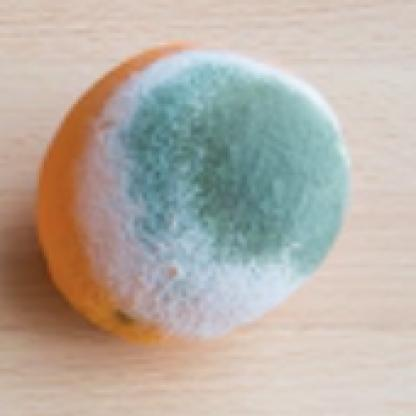rotten: (35, 48, 346, 353)
